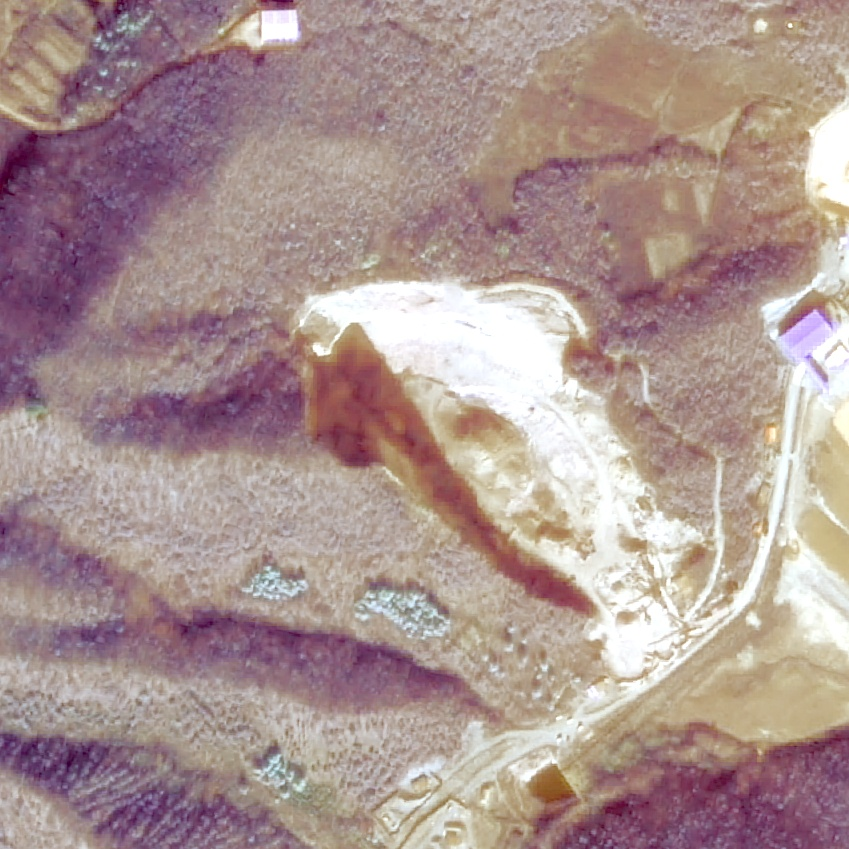slope: (294, 272, 713, 683), (794, 93, 848, 222)
